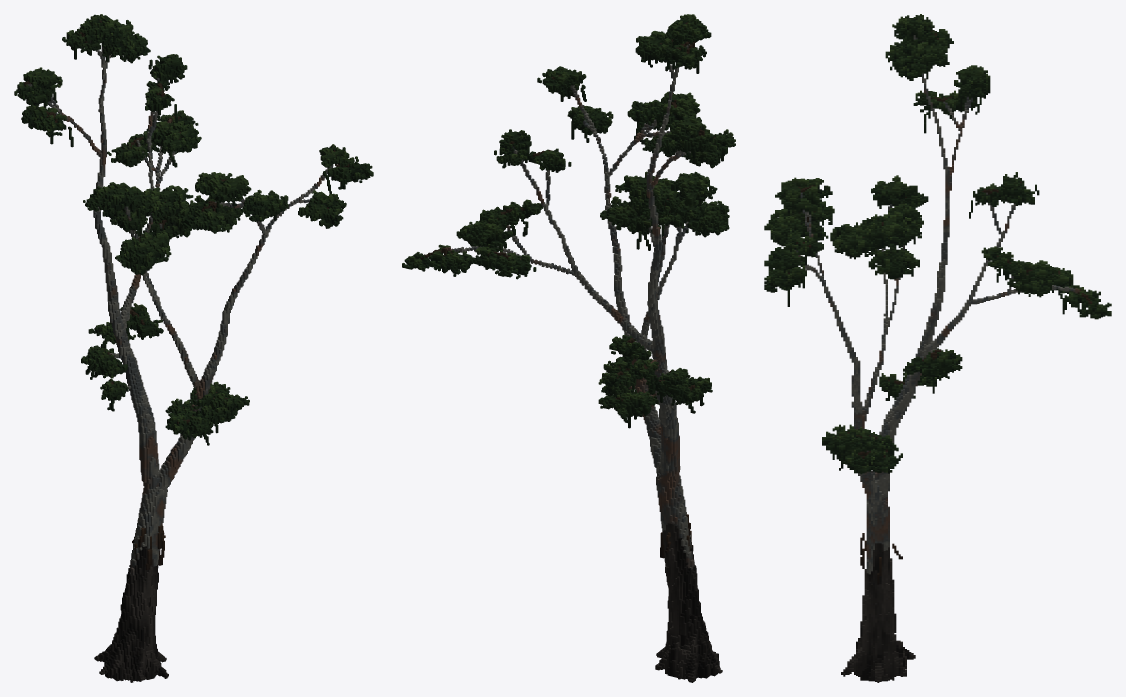
The model's file is eucalipto_alto_02_LOD0.fbx.
3 renders of one model, left to right at view 1: azimuth 30°, elevation 25°; view 2: azimuth 150°, elevation 25°; view 3: azimuth 270°, elevation 25°, orthographic. The views are drawn at different scales.
Parts seen in each view (by area): view 1: eucalipto_alto_02_LOD0; view 2: eucalipto_alto_02_LOD0; view 3: eucalipto_alto_02_LOD0.
Boxes of the visible parts, left/top/right/bottom form: eucalipto_alto_02_LOD0: left=14, top=14, right=373, bottom=682; eucalipto_alto_02_LOD0: left=402, top=14, right=735, bottom=682; eucalipto_alto_02_LOD0: left=764, top=14, right=1111, bottom=682.
Size of the model in its own units: 894 by 2094 by 1019.
